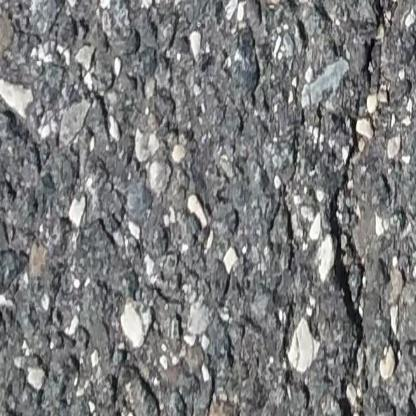Cracks: (327, 106, 372, 416), (356, 0, 407, 92)
